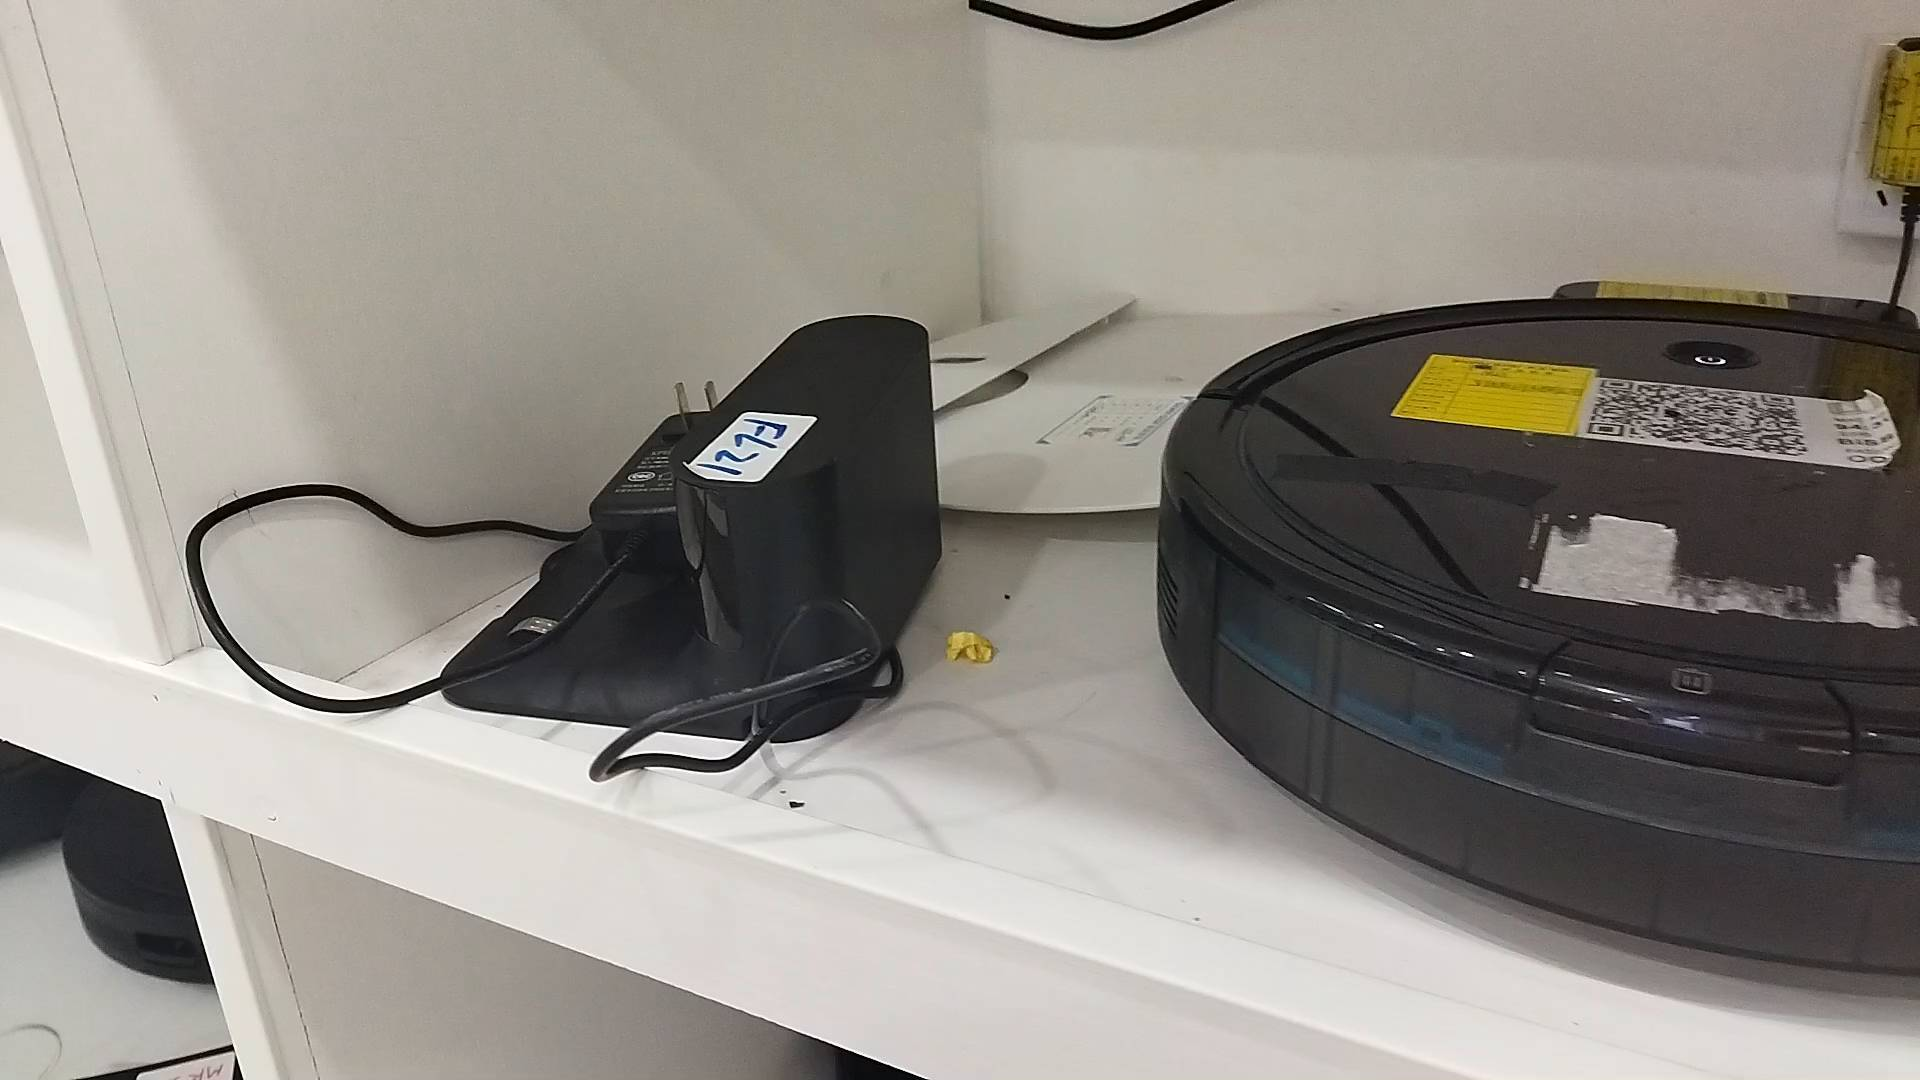recharge seat: (443, 318, 951, 746)
